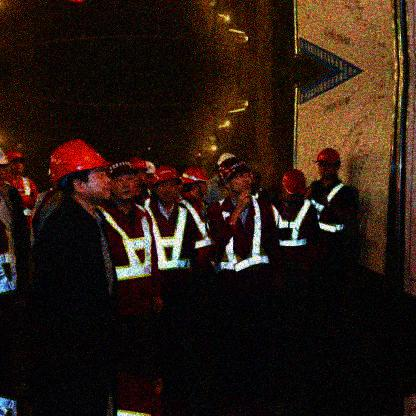helmet: (48, 138, 112, 202), (218, 158, 254, 196), (107, 158, 137, 202), (151, 162, 179, 204), (278, 167, 306, 207), (313, 148, 344, 180), (181, 164, 210, 197), (130, 156, 148, 185), (6, 148, 26, 174)
